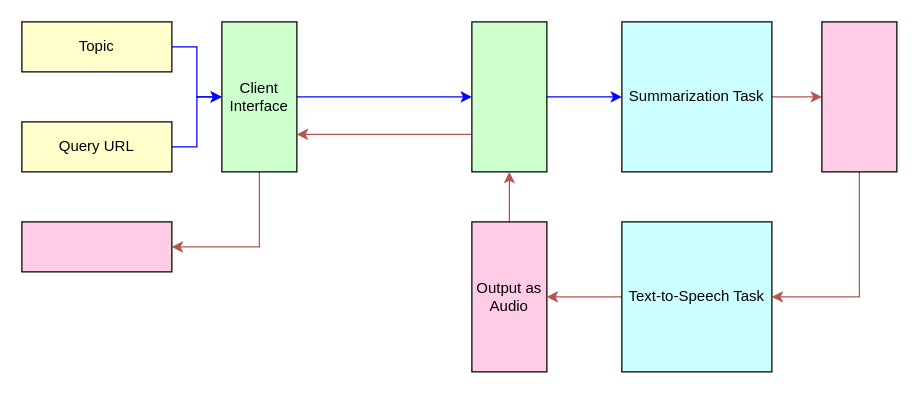
This 919x394 diagram has some shape labels left out. Each missing label, with the centre of its shape:
"Output as Text" belongs at point (859, 96).
"Response Audio" belongs at point (96, 246).
"Server Interface" belongs at point (509, 96).
